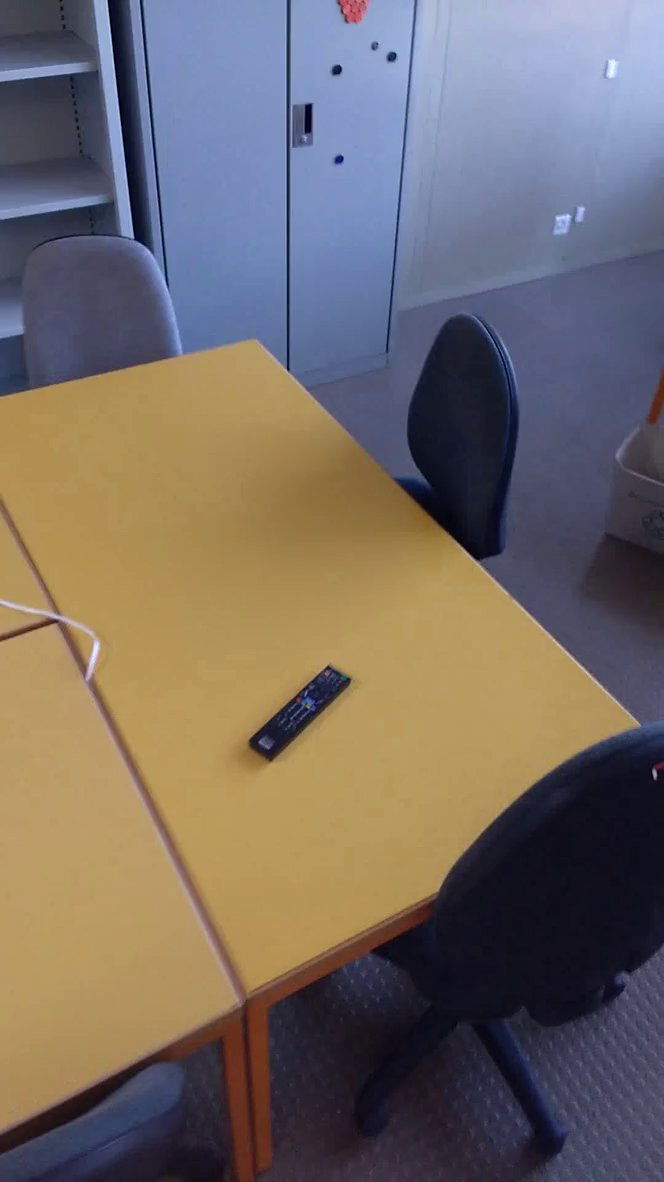chair: (373, 301, 534, 597), (1, 229, 194, 395)
remote: (240, 663, 368, 768)
